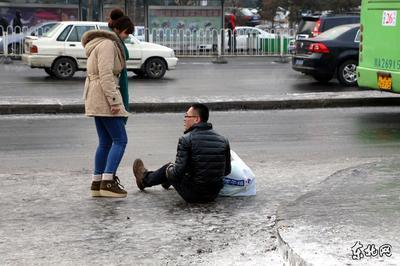Fall-Detected: (132, 101, 239, 201)
